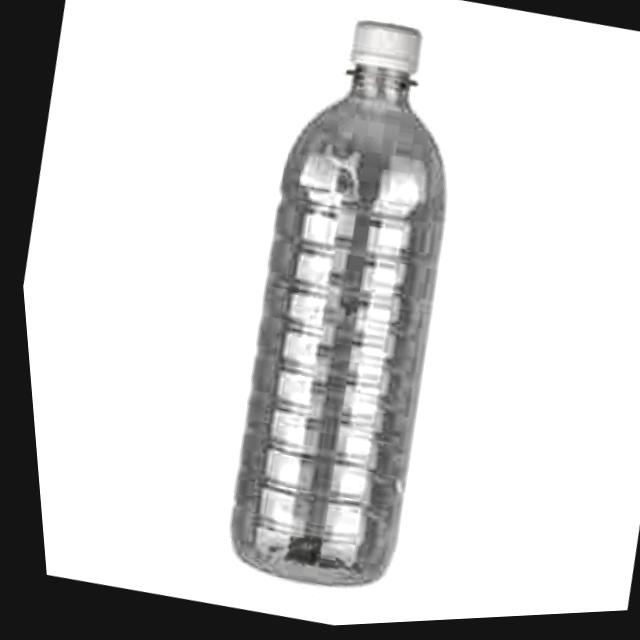Bottles: (158, 0, 526, 615)
